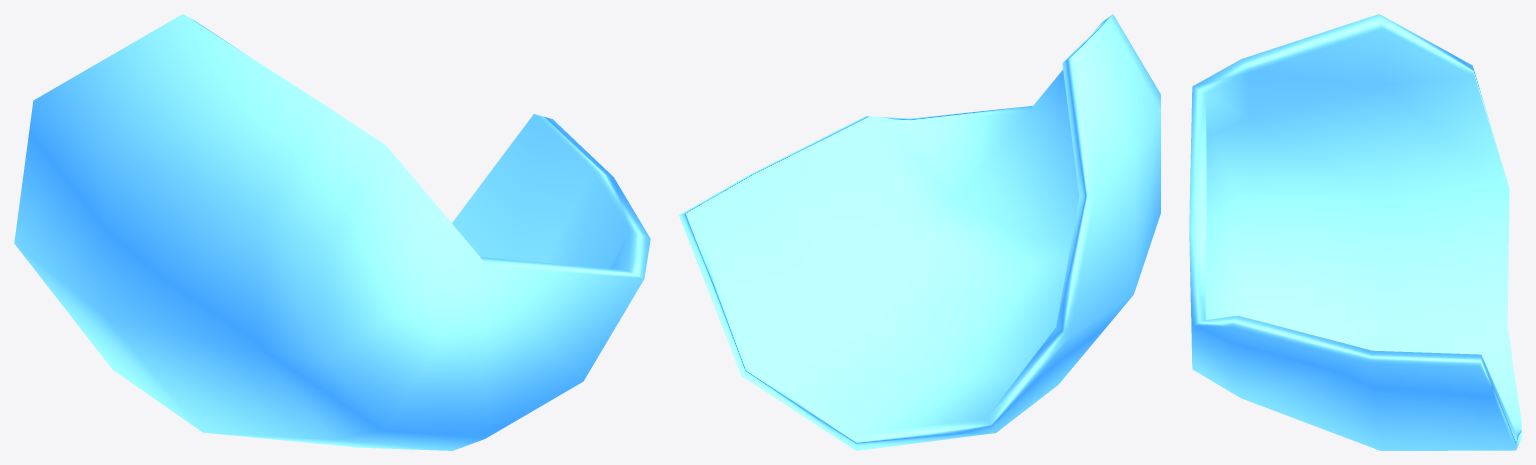
Rendered from vase_tall_broken01_005.fbx.
3 renders of one model, left to right at view 1: azimuth 30°, elevation 25°; view 2: azimuth 150°, elevation 25°; view 3: azimuth 270°, elevation 25°, orthographic. The views are drawn at different scales.
Parts seen in each view (by area): view 1: vase_tall_broken01.005; view 2: vase_tall_broken01.005; view 3: vase_tall_broken01.005.
Boxes of the visible parts, box(x1,y1,x2,y2) form: vase_tall_broken01.005: box(14, 14, 650, 450); vase_tall_broken01.005: box(679, 14, 1160, 450); vase_tall_broken01.005: box(1189, 14, 1521, 450).
Size of the model in its own units: 5785 by 5052 by 4267.
